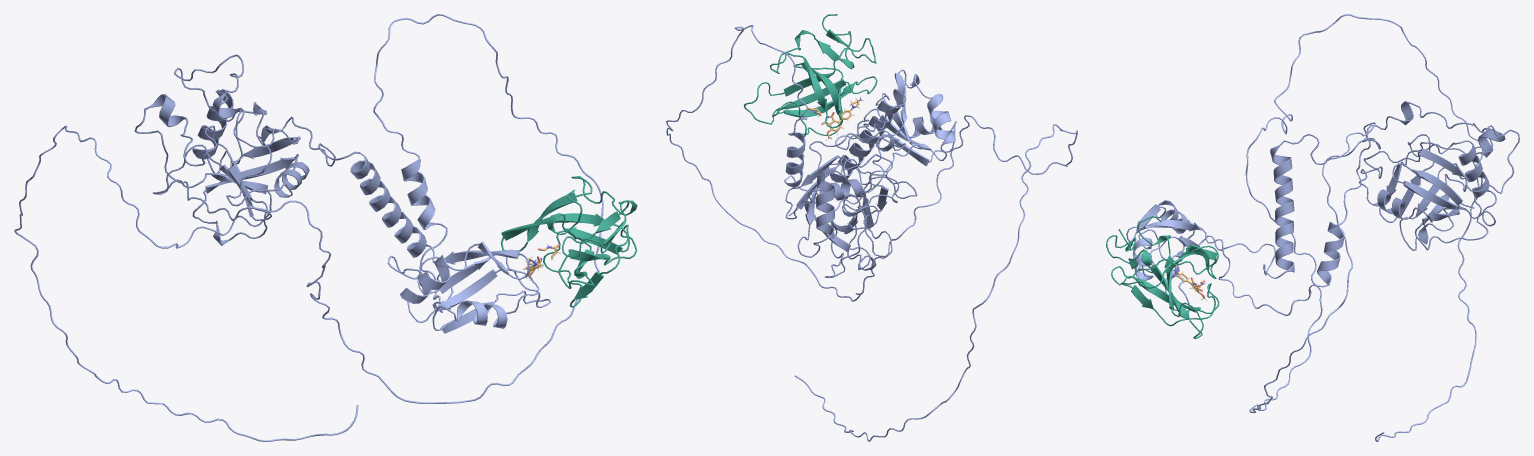
3 views of the same model, side by side, from view 1: azimuth 30°, elevation 25°; view 2: azimuth 150°, elevation 25°; view 3: azimuth 270°, elevation 25° (orthographic). The views are drawn at different scales.
Parts seen in each view (by area): view 1: node-geom97, node-geom98; view 2: node-geom97, node-geom98; view 3: node-geom97, node-geom98.
Part boxes in pixels (x1,y1,x2,y2): node-geom97: [134, 54, 637, 307]; node-geom98: [14, 14, 603, 441]; node-geom97: [743, 14, 917, 277]; node-geom98: [666, 25, 1077, 441]; node-geom97: [1106, 101, 1519, 338]; node-geom98: [1126, 14, 1483, 441].
Bounding box in the file's own units: 127 × 102 × 108.
